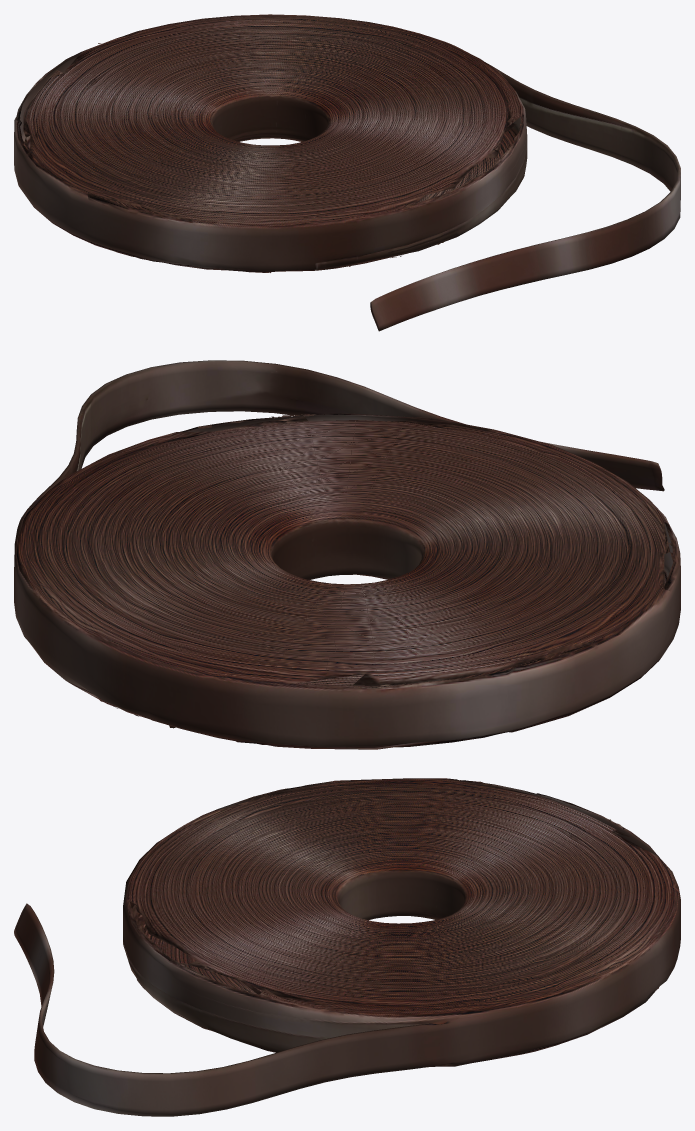
File: tripo_convert_c308294f-3f01-4c88-9173-c2c10461c692.fbx
3 views of the same model, one above another, from view 1: azimuth 30°, elevation 25°; view 2: azimuth 150°, elevation 25°; view 3: azimuth 270°, elevation 25° (orthographic). The views are drawn at different scales.
Visible parts, largest first — view 1: tripo_node_c308294f; view 2: tripo_node_c308294f; view 3: tripo_node_c308294f.
Boxes of the visible parts, x1,y1,x2,y2 form: tripo_node_c308294f: (14,14,680,331); tripo_node_c308294f: (14,360,680,749); tripo_node_c308294f: (14,778,680,1116).
Size of the model in its own units: 0.9609 by 0.1315 by 0.9755.
1 material, 1 textured.
